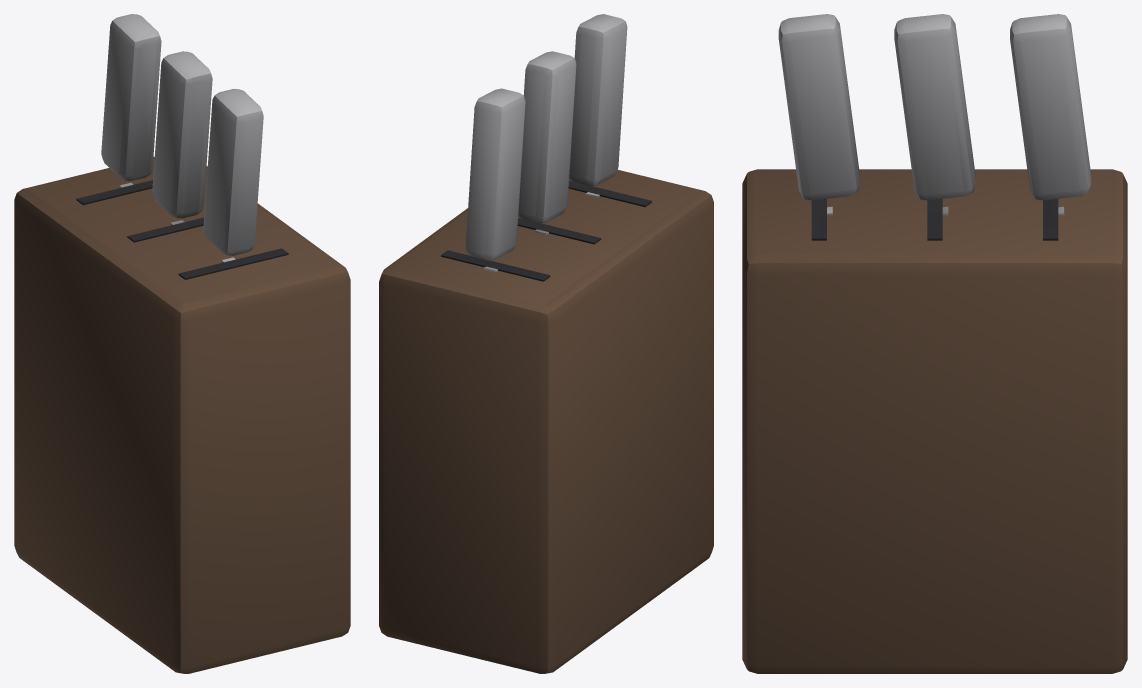
File: knife_block.glb
3 views of the same model, side by side, from view 1: azimuth 30°, elevation 25°; view 2: azimuth 150°, elevation 25°; view 3: azimuth 270°, elevation 25° (orthographic). The views are drawn at different scales.
Visible parts, largest first — view 1: knife_block; view 2: knife_block; view 3: knife_block.
Part boxes in pixels (bbox=[...]): knife_block: bbox=[14, 14, 350, 673]; knife_block: bbox=[379, 14, 713, 673]; knife_block: bbox=[742, 14, 1127, 673].
Bounding box in the file's own units: 0.12 × 0.3508 × 0.2.
